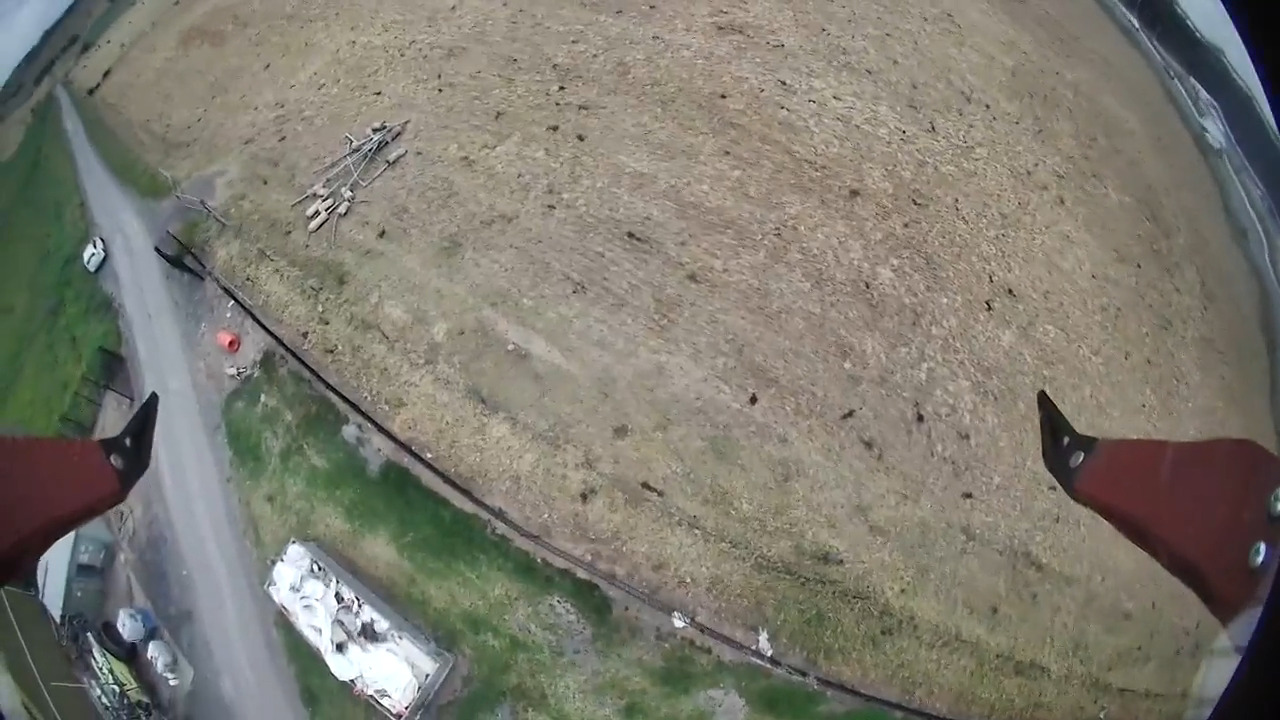Car: (80, 234, 108, 273)
